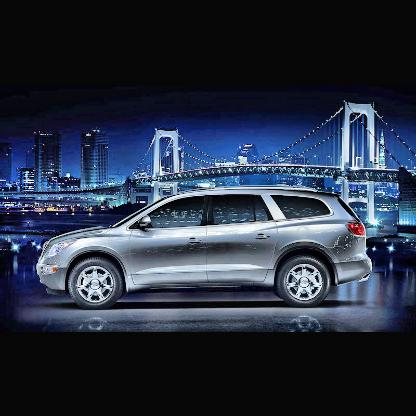Buick Enclave SUV 2012: (37, 184, 376, 308)
